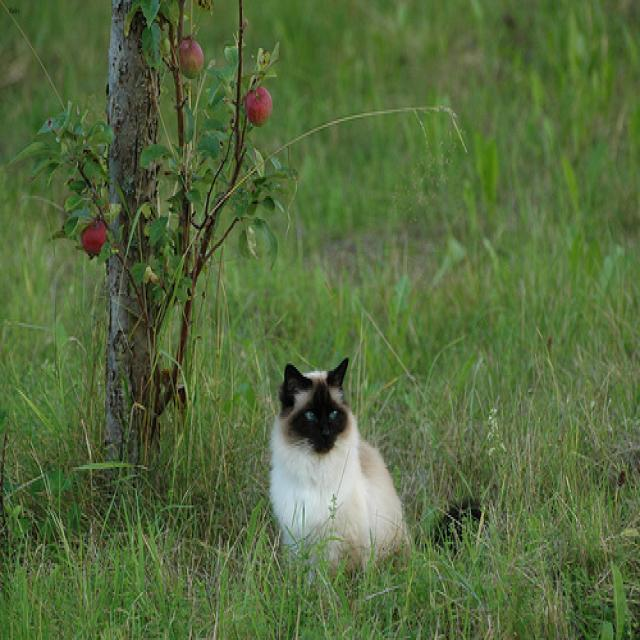Birman: (280, 354, 348, 458)
